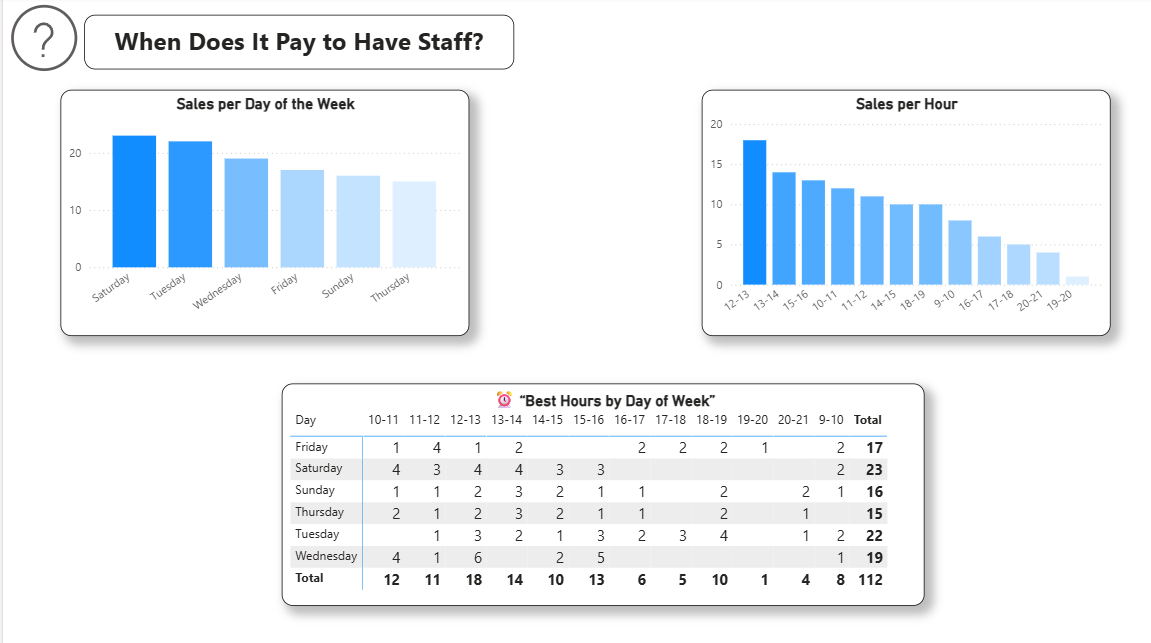

What the dashboard file says about the page in this screenshot:
{"tool":"powerbi","page":{"name":"When Does It Pay to Have Staff?","canvas":[1280,720],"ordinal":6},"visuals":[{"type":"clusteredColumnChart","title":"Sales per Day of the Week","fields":{"Y":["retail v_sales_fct.Total Sales"],"Category":["retail v_sales_fct.DayOfWeek"]},"box":[63.1,102.9,448.7,270.3],"z":0},{"type":"actionButton","box":[0,0,90.5,91.7],"z":1},{"type":"textbox","box":[89.8,20,471.8,59.9],"z":2},{"type":"clusteredColumnChart","title":"Sales per Hour","fields":{"Y":["retail v_sales_fct.Total Sales"],"Category":["retail v_sales_fct.time_range"]},"box":[767.1,102.9,448.7,270.3],"z":3},{"type":"pivotTable","title":"⏰ “Best Hours by Day of Week”","fields":{"Rows":["retail v_sales_fct.DayOfWeek"],"Columns":["retail v_sales_fct.time_range"],"Values":["retail v_sales_fct.Total Sales"]},"box":[306,425.4,705.3,244.3],"z":4}]}

Visuals, with their boxes in screenshot pixels (x1, y1, x2, y2), scaled from the page's 1280x720 canvas onto the 1151x643 screenshot:
"Sales per Day of the Week" clusteredColumnChart: pyautogui.locateOnScreen(57, 92, 460, 333)
actionButton: pyautogui.locateOnScreen(0, 0, 81, 82)
textbox: pyautogui.locateOnScreen(81, 18, 505, 71)
"Sales per Hour" clusteredColumnChart: pyautogui.locateOnScreen(690, 92, 1093, 333)
"⏰ “Best Hours by Day of Week”" pivotTable: pyautogui.locateOnScreen(275, 380, 909, 598)
